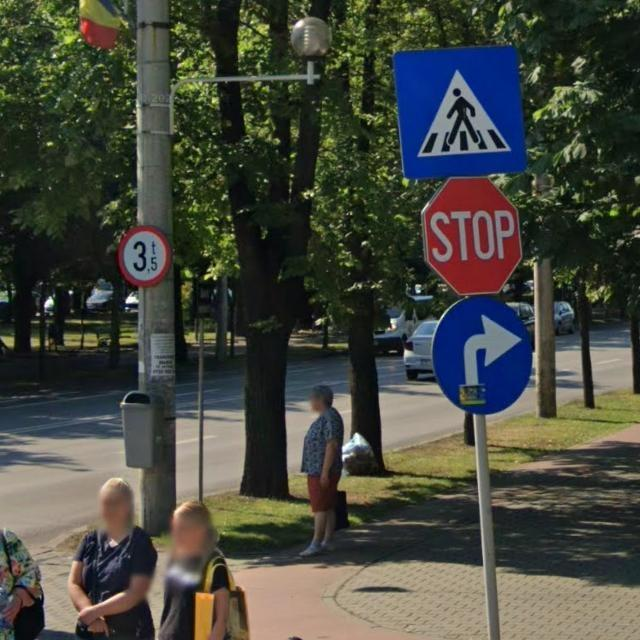info_crosswalk: (391, 49, 526, 177)
prio_stop: (421, 175, 526, 295)
